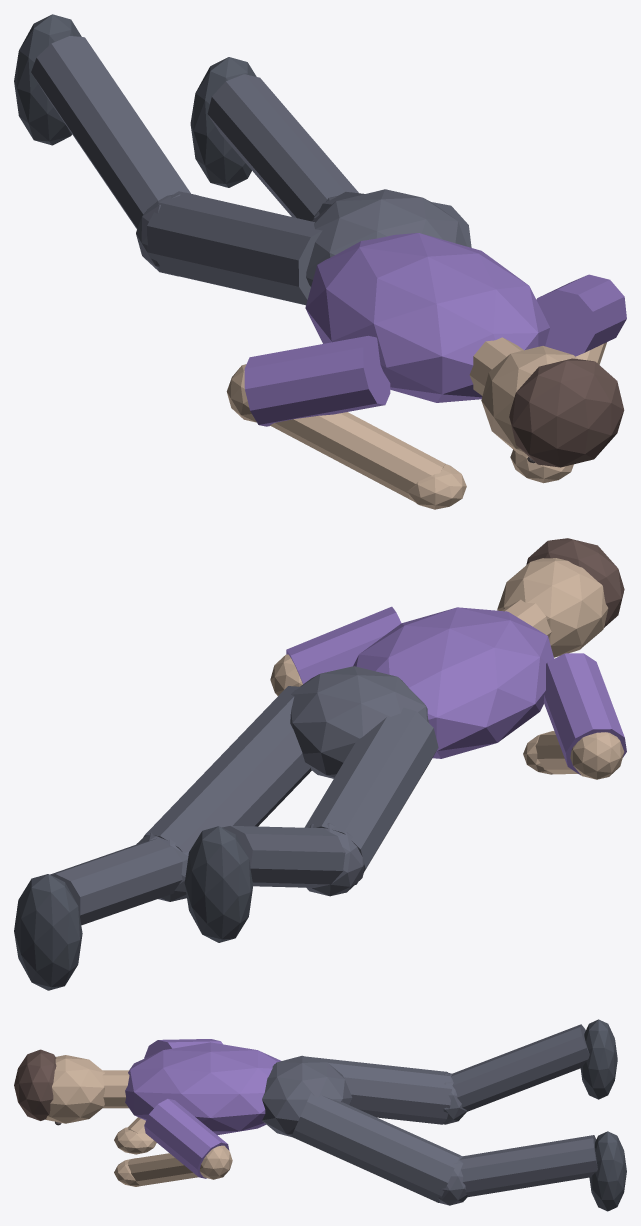
The picture shows the model from 3 angles, top to bottom: view 1: azimuth 30°, elevation 25°; view 2: azimuth 150°, elevation 25°; view 3: azimuth 270°, elevation 25°; orthographic projection. The views are drawn at different scales.
Parts seen in each view (by area): view 1: world; view 2: world; view 3: world.
Boxes of the visible parts, x1,y1,x2,y2 form: world: (14,14,626,509); world: (14,538,626,990); world: (14,1019,626,1211).
Size of the model in its own units: 0.93 by 0.5125 by 2.07.
